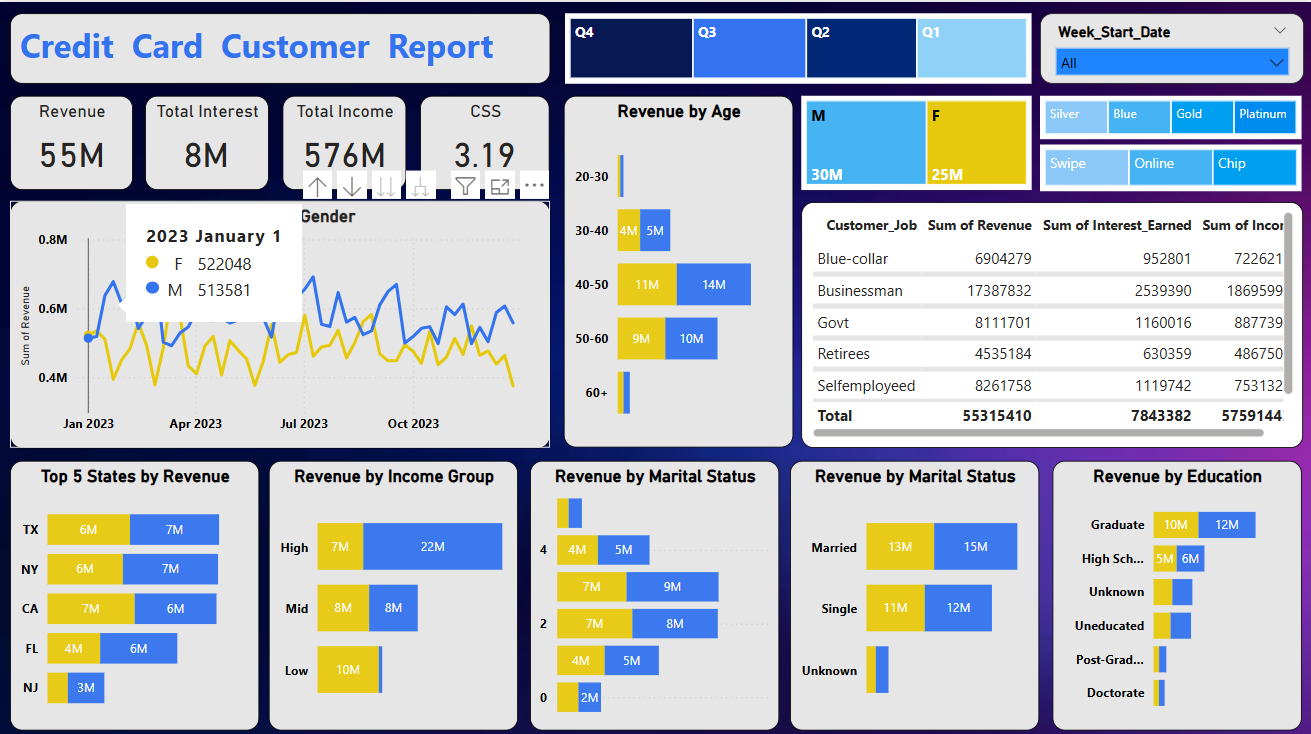

The page's visual inventory and layout, read from the dashboard file:
{"tool":"powerbi","page":{"name":"CC Customer","canvas":[1280,720],"ordinal":2},"visuals":[{"type":"textbox","box":[9.7,10.9,527.2,68.8],"z":0},{"type":"barChart","title":"Revenue by Income Group","fields":{"Y":["Sum(credit_card.Revenue)"],"Category":["customer.IncomeGroup"],"Series":["customer.Gender"]},"box":[262.1,447.3,243,263.5],"z":1000},{"type":"tableEx","fields":{"Values":["customer.Customer_Job","Sum(credit_card.Revenue)","Sum(credit_card.Interest_Earned)","Sum(customer.Income)"]},"box":[782.2,194.9,489.9,240.1],"z":2000},{"type":"card","title":"Revenue","fields":{"Values":["Sum(credit_card.Revenue)"]},"box":[9.4,91.7,120.1,91.7],"z":3000},{"type":"card","title":"Total Income","fields":{"Values":["Sum(customer.Income)"]},"box":[275.1,91.7,120.6,91.7],"z":4000},{"type":"card","title":"Total Interest","fields":{"Values":["Sum(credit_card.Interest_Earned)"]},"box":[141.2,91.7,120.6,91.7],"z":5000},{"type":"card","title":"CSS","fields":{"Values":["Avg(customer.Cust_Satisfaction_Score)"]},"box":[410.2,91.7,126.7,91.7],"z":6000},{"type":"treemap","fields":{"Values":["Avg(credit_card.Client_Num)"],"Group":["credit_card.Card_Category"]},"box":[1014.1,91.9,255.2,42.5],"z":7000},{"type":"treemap","fields":{"Values":["Avg(credit_card.Client_Num)"],"Group":["credit_card.Use Chip"]},"box":[1014.1,138.6,255.2,45.3],"z":8000},{"type":"treemap","fields":{"Group":["customer.Gender"],"Values":["Sum(credit_card.Revenue)"]},"box":[782.2,91.9,225,91.9],"z":9000},{"type":"lineChart","title":" Revenue vs Gender","fields":{"Series":["customer.Gender"],"Y":["Sum(credit_card.Revenue)"],"Category":["credit_card.Week_Start_Date.Variation.Date Hierarchy.Year","credit_card.Week_Start_Date.Variation.Date Hierarchy.Month","credit_card.Week_Start_Date.Variation.Date Hierarchy.Day"]},"box":[9.7,194.2,527.2,241.3],"z":10000},{"type":"barChart","title":"Revenue by Education","fields":{"Y":["Sum(credit_card.Revenue)"],"Series":["customer.Gender"],"Category":["customer.Education_Level"]},"box":[1026.4,447.3,242.9,263.5],"z":11000},{"type":"slicer","fields":{"Values":["credit_card.Week_Start_Date"]},"box":[1014.1,11,258,68.6],"z":12000},{"type":"treemap","fields":{"Values":["Avg(credit_card.Client_Num)"],"Group":["credit_card.Qtr"]},"box":[551.6,11,455.6,68.6],"z":13000},{"type":"barChart","title":"Revenue by Age","fields":{"Y":["Sum(credit_card.Revenue)"],"Series":["customer.Gender"],"Category":["customer.AgeGroup"]},"box":[550.3,91.9,223.7,343.1],"z":14000},{"type":"barChart","title":"Revenue by Marital Status","fields":{"Y":["Sum(credit_card.Revenue)"],"Series":["customer.Gender"],"Category":["customer.Marital_Status"]},"box":[771.2,447.3,242.9,263.5],"z":15000},{"type":"barChart","title":"Revenue by Marital Status","fields":{"Y":["Sum(credit_card.Revenue)"],"Series":["customer.Gender"],"Category":["customer.Dependent_Count"]},"box":[517.3,447.3,243,263.5],"z":16000},{"type":"barChart","title":"Top 5 States by Revenue","fields":{"Y":["Sum(credit_card.Revenue)"],"Series":["customer.Gender"],"Category":["customer.state_cd"]},"box":[9.6,447.3,243,263.5],"z":17000}]}

Visuals, with their boxes in screenshot pixels (x1, y1, x2, y2), scaled from the page's 1280x720 canvas onto the 1311x734 screenshot:
textbox: (x1=10, y1=11, x2=550, y2=81)
"Revenue by Income Group" barChart: (x1=268, y1=456, x2=517, y2=725)
tableEx - customer.Customer_Job x Sum(credit_card.Revenue): (x1=801, y1=199, x2=1303, y2=443)
"Revenue" card: (x1=10, y1=93, x2=133, y2=187)
"Total Income" card: (x1=282, y1=93, x2=405, y2=187)
"Total Interest" card: (x1=145, y1=93, x2=268, y2=187)
"CSS" card: (x1=420, y1=93, x2=550, y2=187)
treemap - Avg(credit_card.Client_Num) x credit_card.Card_Category: (x1=1039, y1=94, x2=1300, y2=137)
treemap - Avg(credit_card.Client_Num) x credit_card.Use Chip: (x1=1039, y1=141, x2=1300, y2=187)
treemap - customer.Gender x Sum(credit_card.Revenue): (x1=801, y1=94, x2=1032, y2=187)
" Revenue vs Gender" lineChart: (x1=10, y1=198, x2=550, y2=444)
"Revenue by Education" barChart: (x1=1051, y1=456, x2=1300, y2=725)
slicer - credit_card.Week_Start_Date: (x1=1039, y1=11, x2=1303, y2=81)
treemap - Avg(credit_card.Client_Num) x credit_card.Qtr: (x1=565, y1=11, x2=1032, y2=81)
"Revenue by Age" barChart: (x1=564, y1=94, x2=793, y2=443)
"Revenue by Marital Status" barChart: (x1=790, y1=456, x2=1039, y2=725)
"Revenue by Marital Status" barChart: (x1=530, y1=456, x2=779, y2=725)
"Top 5 States by Revenue" barChart: (x1=10, y1=456, x2=259, y2=725)
